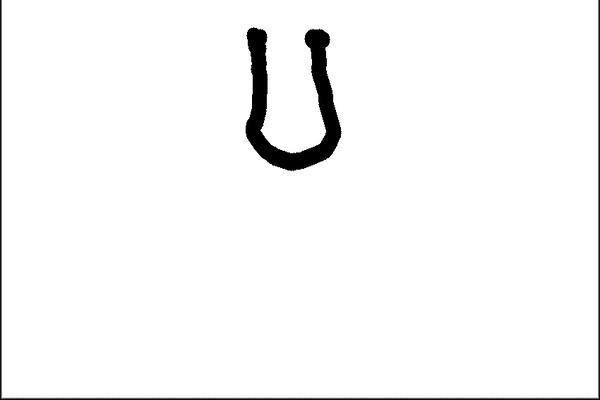U: (230, 20, 357, 181)
